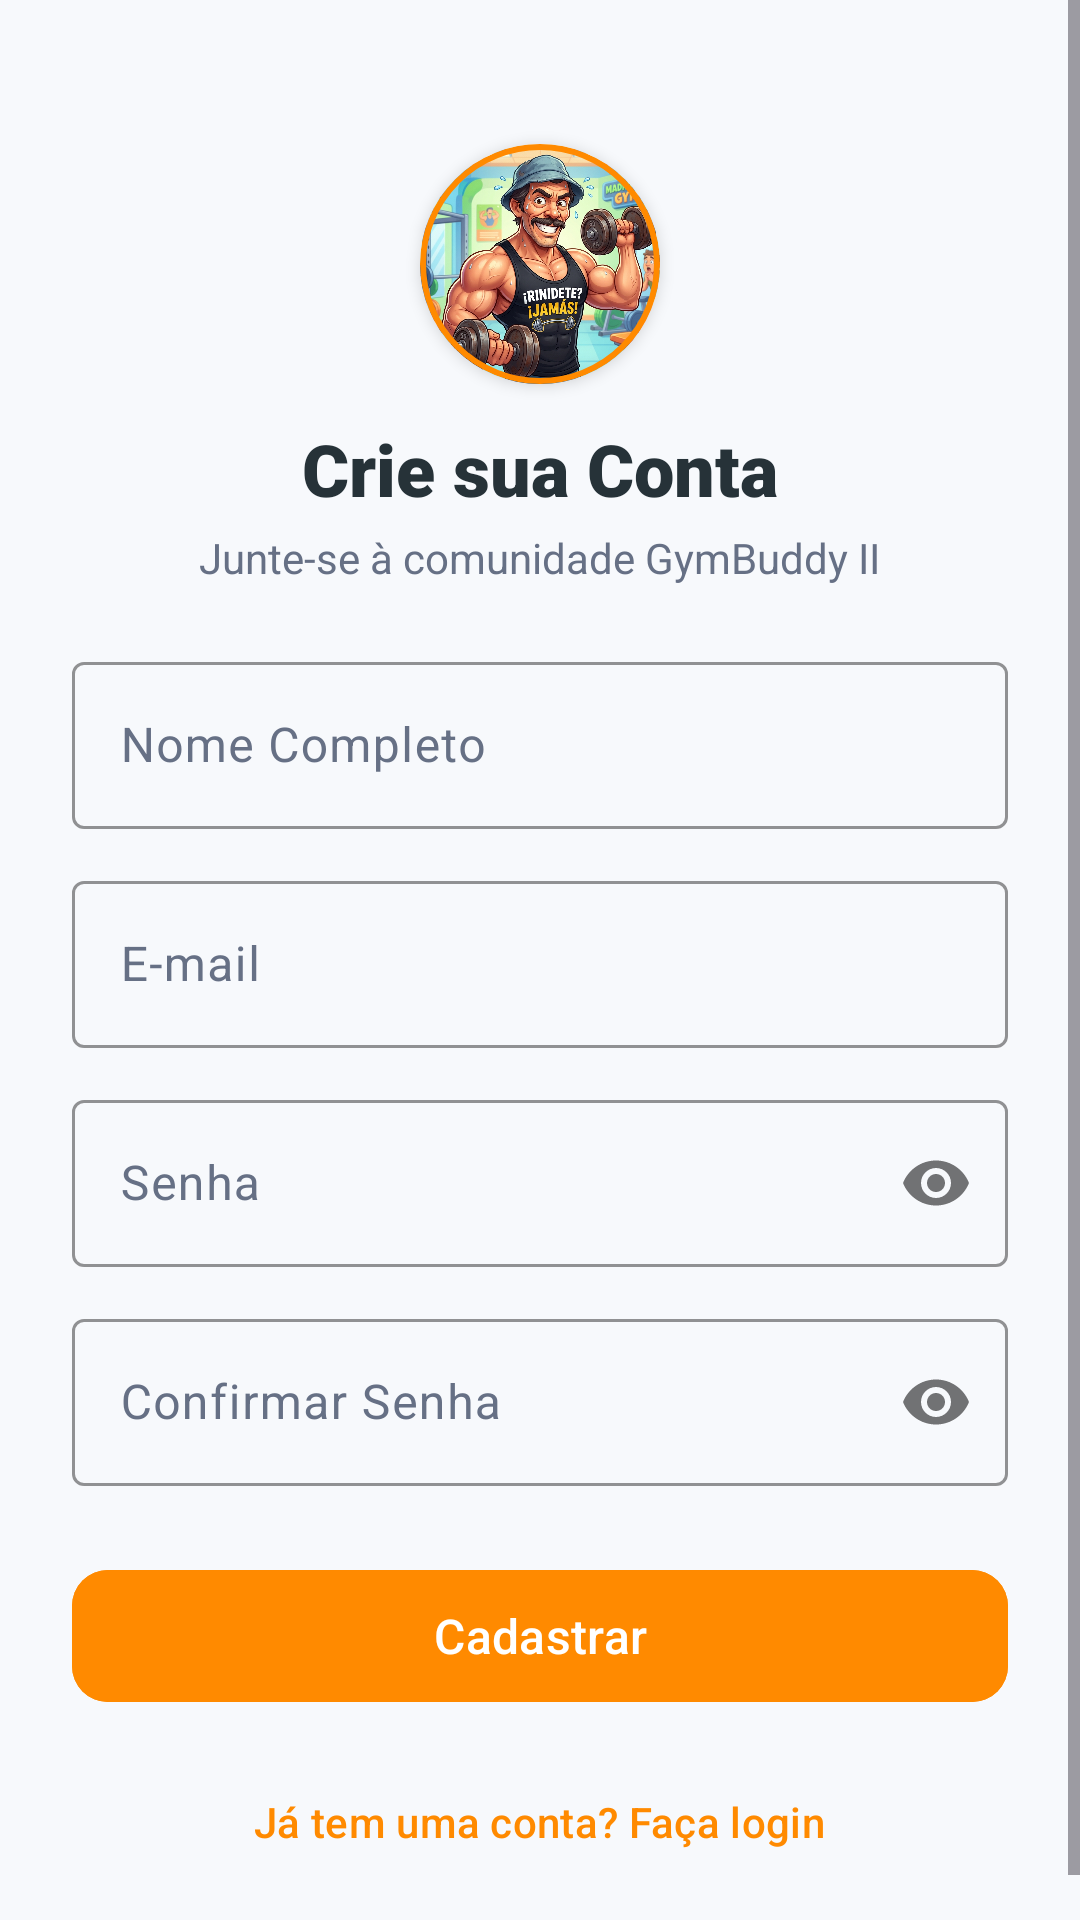

Point at icon controls on the screen. Image size 1080px×1920px, points as (x=x, y=y).
Mascote GymBuddy: (x=540, y=264)
